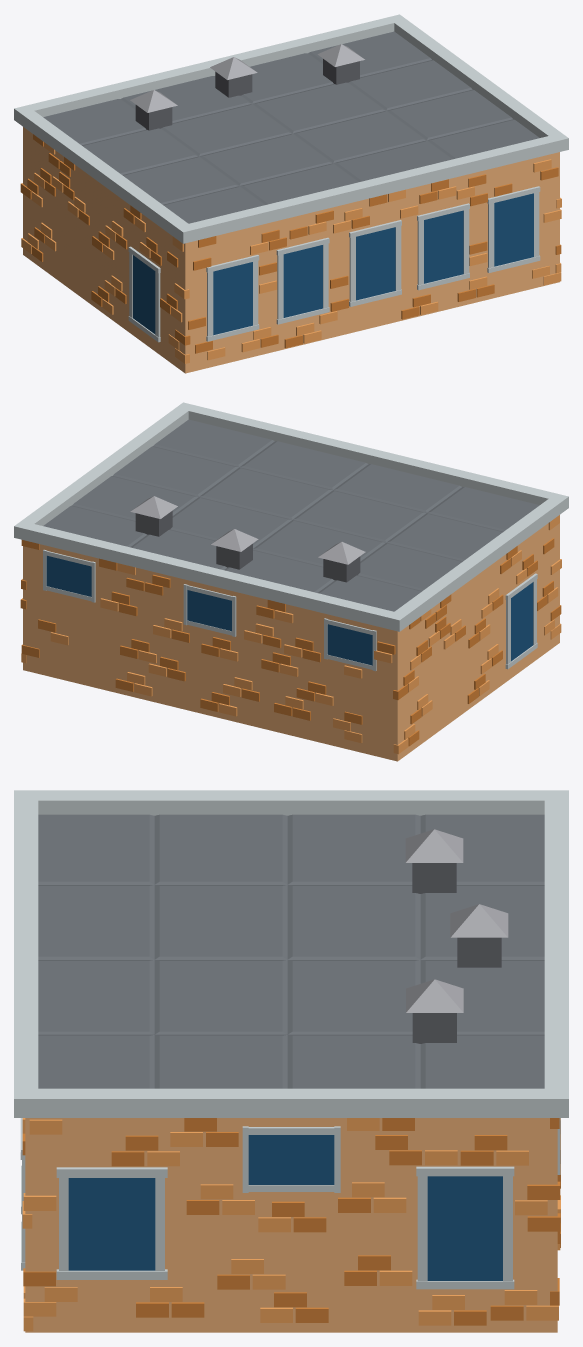
Rendered from SM_House_21_B.FBX.
3 renders of one model, top to bottom at view 1: azimuth 30°, elevation 25°; view 2: azimuth 150°, elevation 25°; view 3: azimuth 270°, elevation 25°, orthographic. The views are drawn at different scales.
Parts seen in each view (by area): view 1: SM_House_21_B; view 2: SM_House_21_B; view 3: SM_House_21_B.
Part boxes in pixels (box(x1,y1,x2,y2)): SM_House_21_B: box(14, 14, 568, 373); SM_House_21_B: box(14, 402, 568, 761); SM_House_21_B: box(14, 790, 568, 1332).
Size of what is drawn, in the model's own units: 1153 by 876 by 485.
